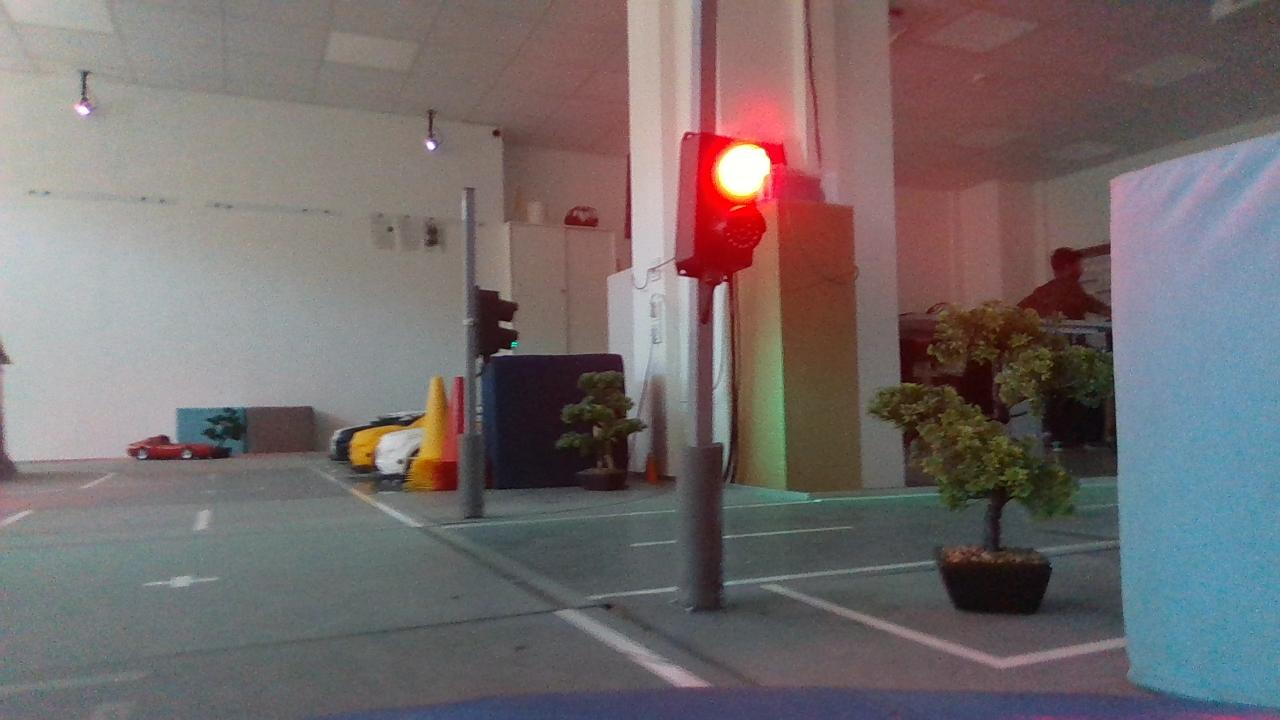traffic_light_red: (656, 105, 793, 303)
